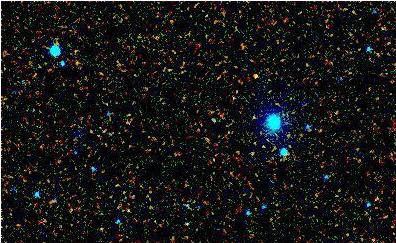star: (242, 58, 272, 88)
